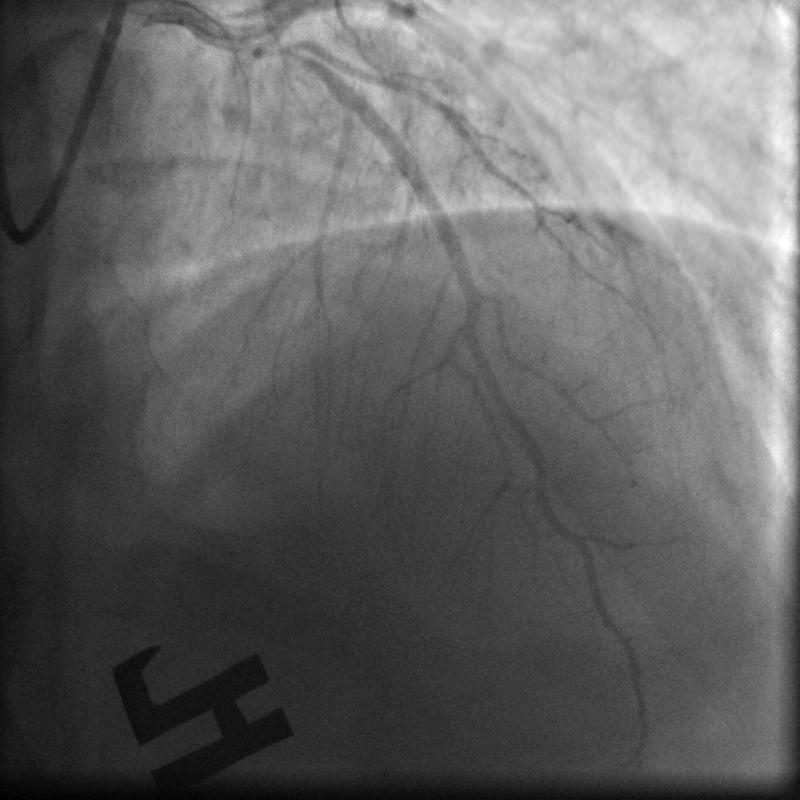Stenosis: (229, 30, 293, 55)
